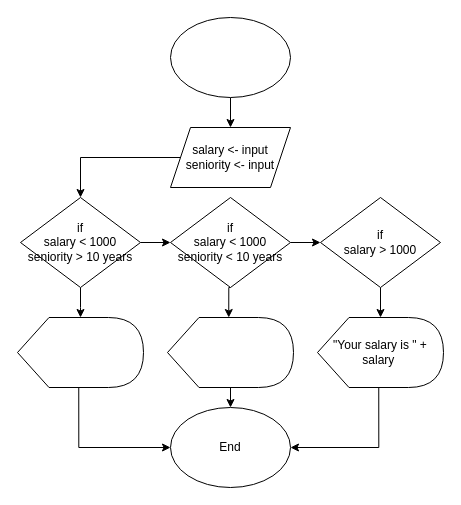
This 461x505 diagram has some shape labels left out. Each missing label, with the centre of its shape:
"Your salary is " + (salary + salary*(.20)): point (80, 352)
"Your salary is " + (salary + salary*(.5)): point (230, 352)
Start: point (230, 57)
